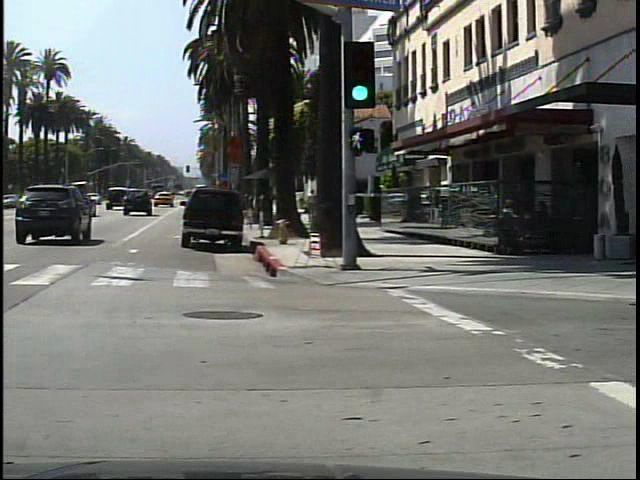person: (309, 186, 324, 228)
